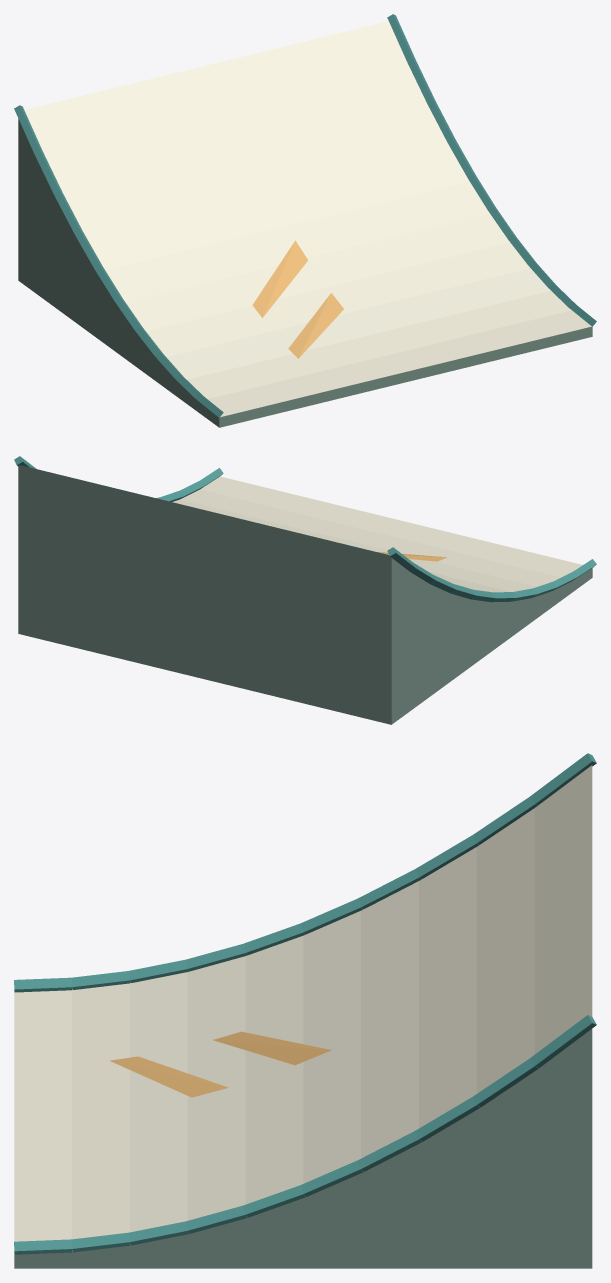
File: trick-ramp.glb
3 views of the same model, one above another, from view 1: azimuth 30°, elevation 25°; view 2: azimuth 150°, elevation 25°; view 3: azimuth 270°, elevation 25° (orthographic). The views are drawn at different scales.
Visible parts, largest first — view 1: curved-snow-kicker; view 2: curved-snow-kicker; view 3: curved-snow-kicker.
Boxes of the visible parts, x1=… form: curved-snow-kicker: x1=14, y1=14, x2=596, y2=427; curved-snow-kicker: x1=14, y1=456, x2=596, y2=724; curved-snow-kicker: x1=14, y1=753, x2=596, y2=1268.
Size of the model in its own units: 3.07 by 1.36 by 2.82.
